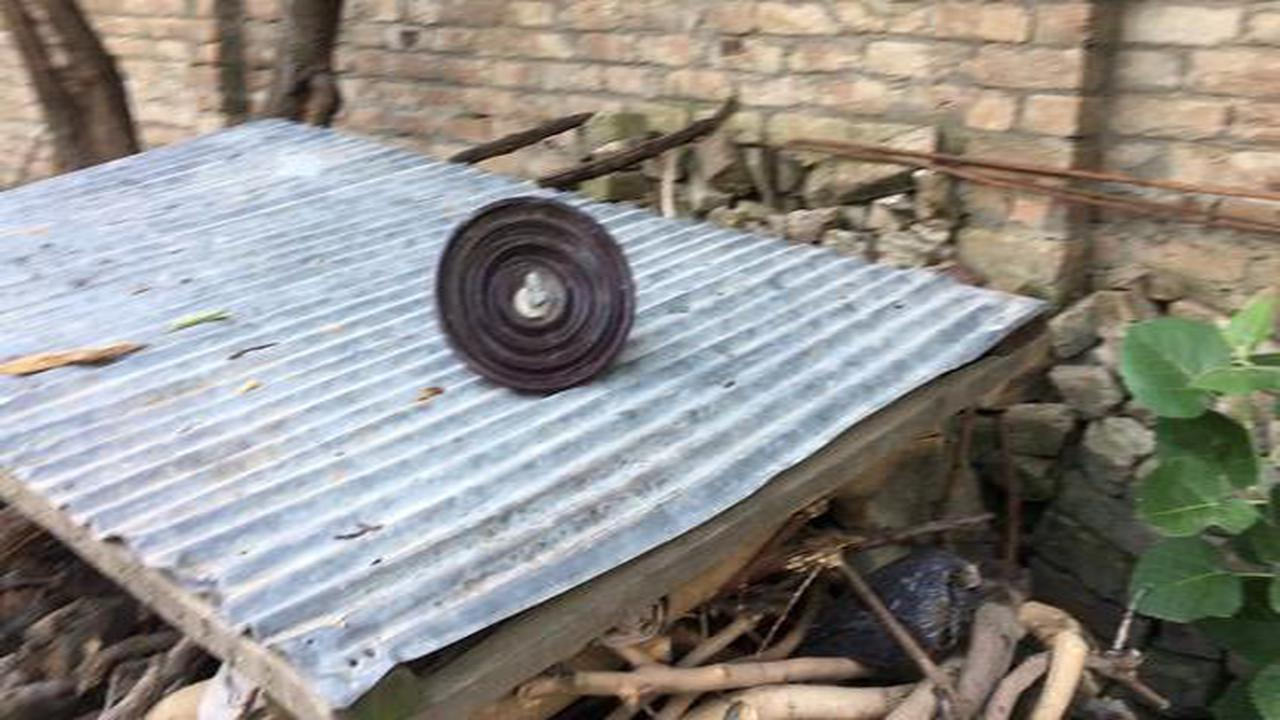insulator_disc: (429, 192, 646, 402)
